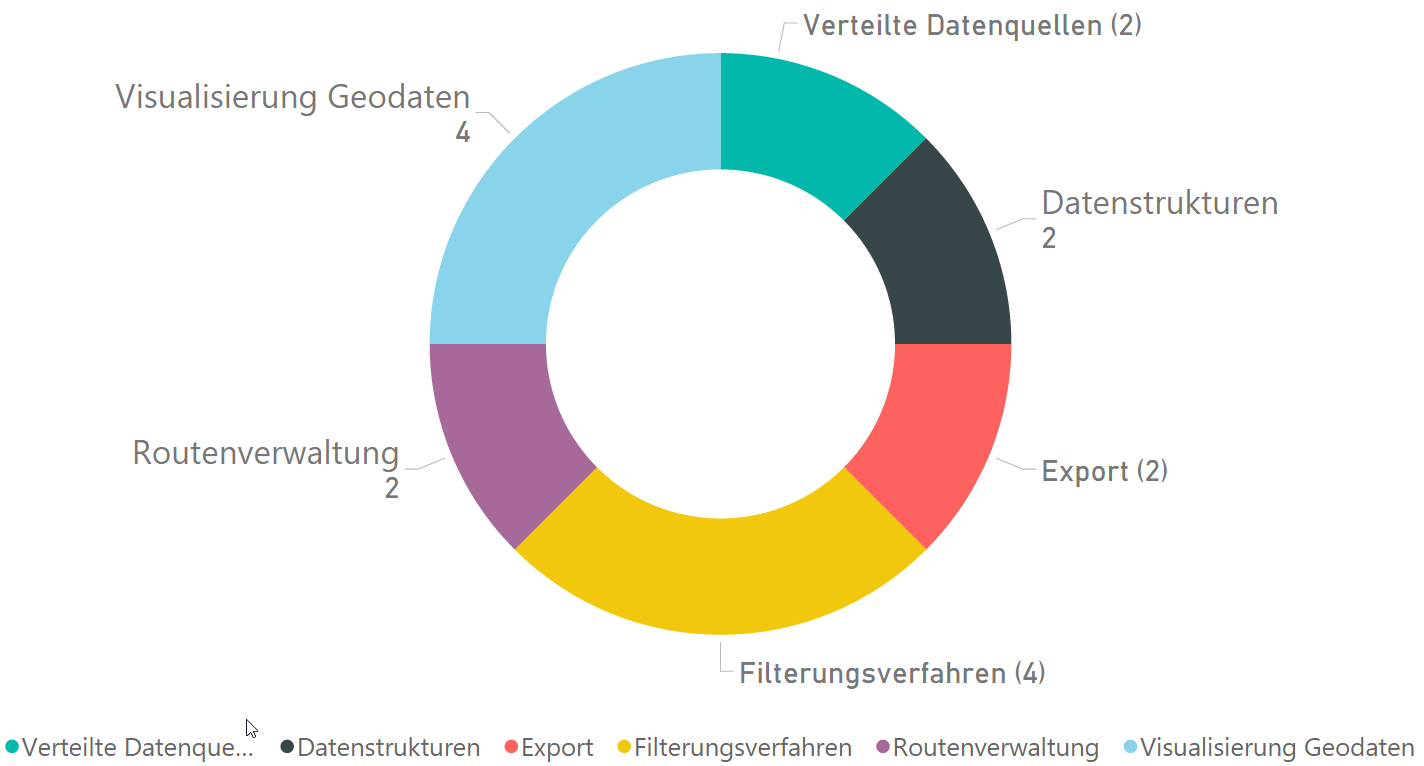

This screenshot's page, from the dashboard's own definition file:
{"tool":"powerbi","page":{"name":"Probleme Interviews Gesamt","canvas":[1280,720],"ordinal":0},"visuals":[{"type":"donutChart","fields":{"Y":["Sum(Probleme Übersicht.Aufgeteilte Daten)","Sum(Probleme Übersicht.Datenstrukturen)","Sum(Probleme Übersicht.Export)","Sum(Probleme Übersicht.Filterungsverfahren)","Sum(Probleme Übersicht.Routenverwaltung)","Sum(Probleme Übersicht.Visualisierung Geodaten)"]},"box":[0,0,1277.4,717.4],"z":1}]}

Visuals, with their boxes on the page's 1280x720 design canvas (x1, y1, x2, y2). These are canvas units, not pixel positions in the 1424x766 screenshot, which may show the page scaled, cropped or inside an application window:
donutChart - Sum(Probleme Übersicht.Aufgeteilte Daten) x Sum(Probleme Übersicht.Datenstrukturen): <bbox>0, 0, 1277, 717</bbox>
